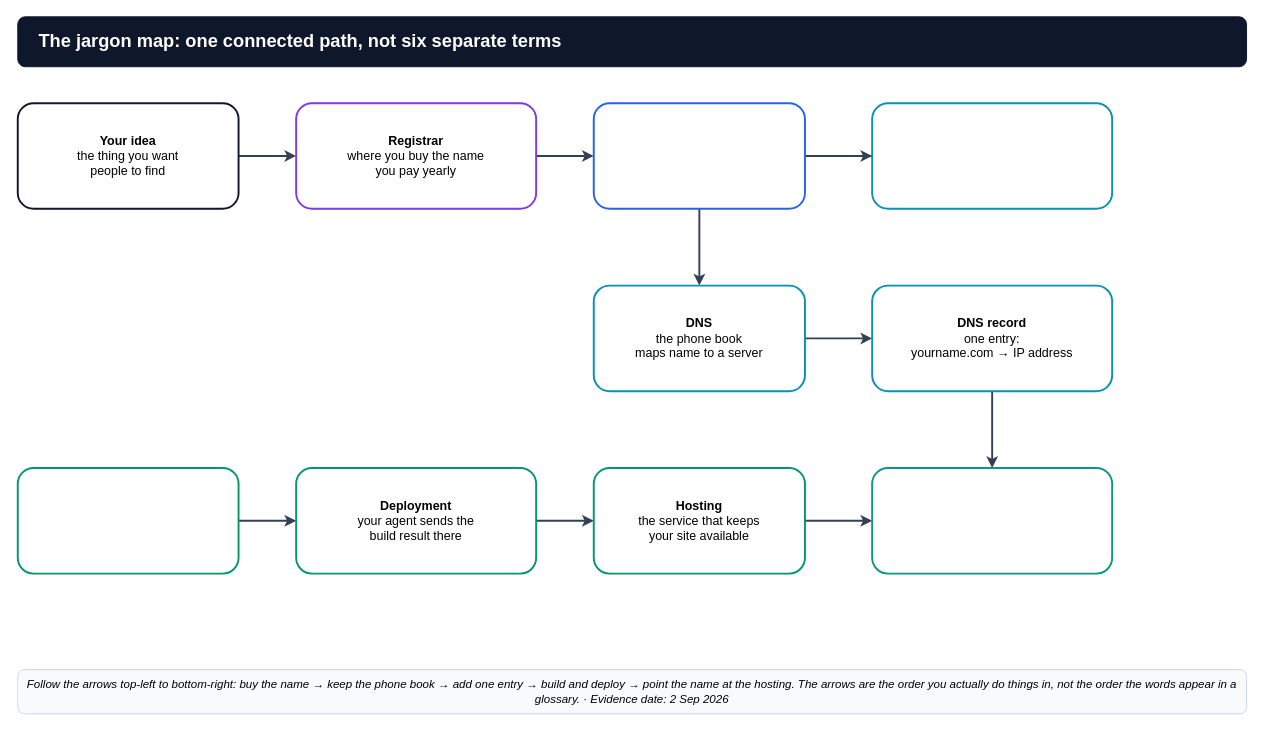
Image size: 1263x731. Some labels were removed from this diagram. The box of each missing label's shape, as (x1, y1, x2, y2) in pixels:
Build turns your source files into what a browser reads: (16, 467, 239, 574)
Domain yourname.com the address itself: (592, 102, 805, 209)
Live custom domain the name reaches the site and loads securely over TLS: (871, 467, 1113, 574)
Nameservers the phone book keeper usually your DNS provider: (871, 102, 1113, 209)
